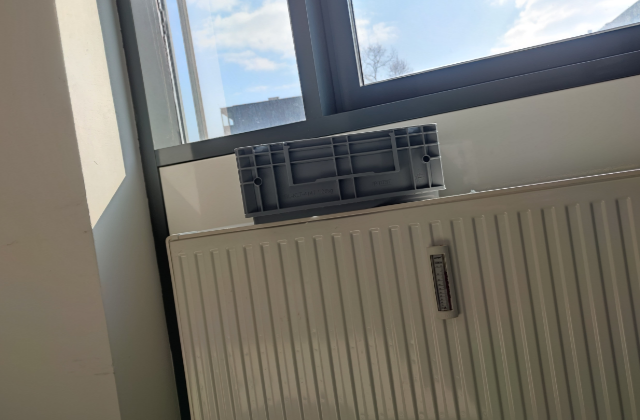Box: (232, 121, 447, 225)
